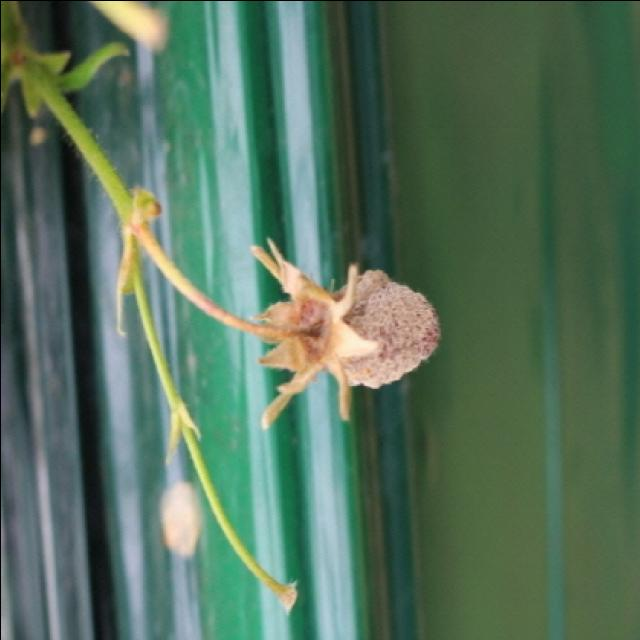Gray Mold: (252, 239, 443, 429)
